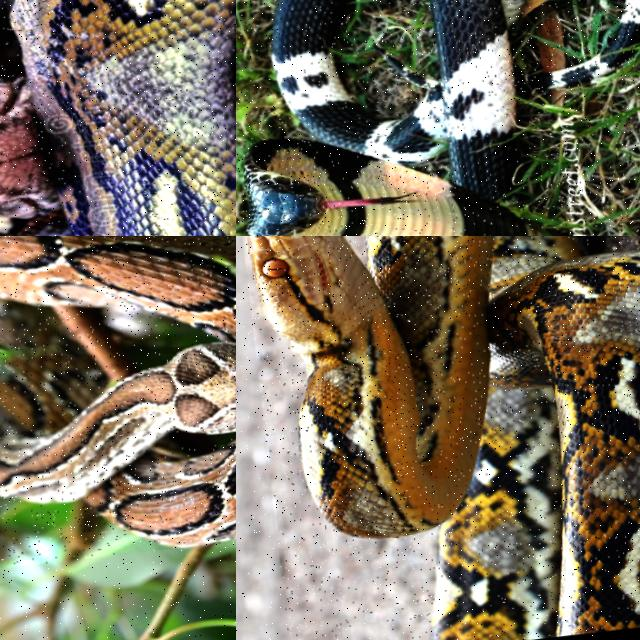Daboia siamensis: (0, 236, 235, 546)
Malayopython reticulatus: (248, 236, 639, 639), (0, 0, 235, 235)
Naja siamensis: (245, 0, 535, 235)
